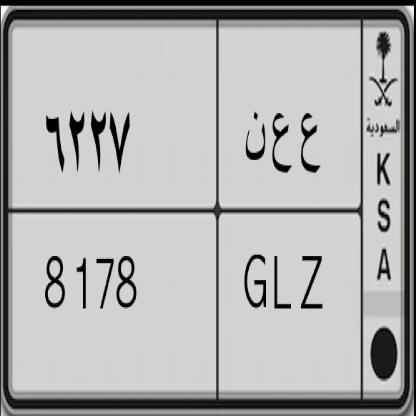english: (7, 205, 367, 389)
